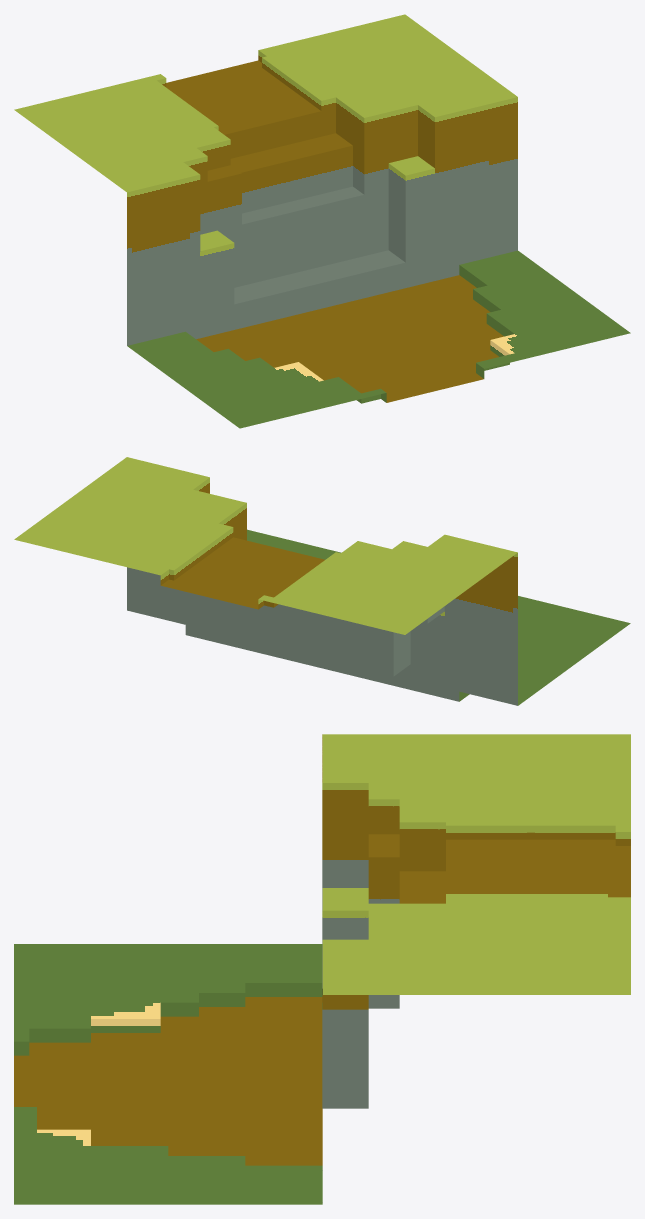
File: testL.glb
3 views of the same model, one above another, from view 1: azimuth 30°, elevation 25°; view 2: azimuth 150°, elevation 25°; view 3: azimuth 270°, elevation 25° (orthographic). The views are drawn at different scales.
Visible parts, largest first — view 1: model_0.049; view 2: model_0.049; view 3: model_0.049.
Boxes of the visible parts, x1,y1,x2,y2 form: model_0.049: (14,14,630,428); model_0.049: (14,457,630,705); model_0.049: (14,734,630,1204).
Bounding box in the file's own units: 80 × 32 × 80.
1 material, 1 textured.
